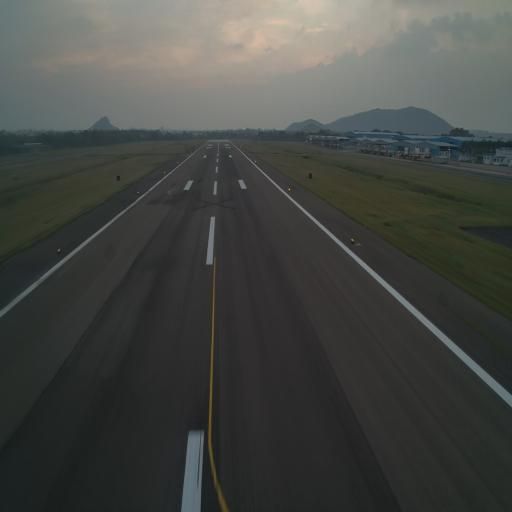on: (56, 245, 62, 254), (350, 236, 355, 244), (287, 186, 292, 194), (136, 189, 140, 194)
